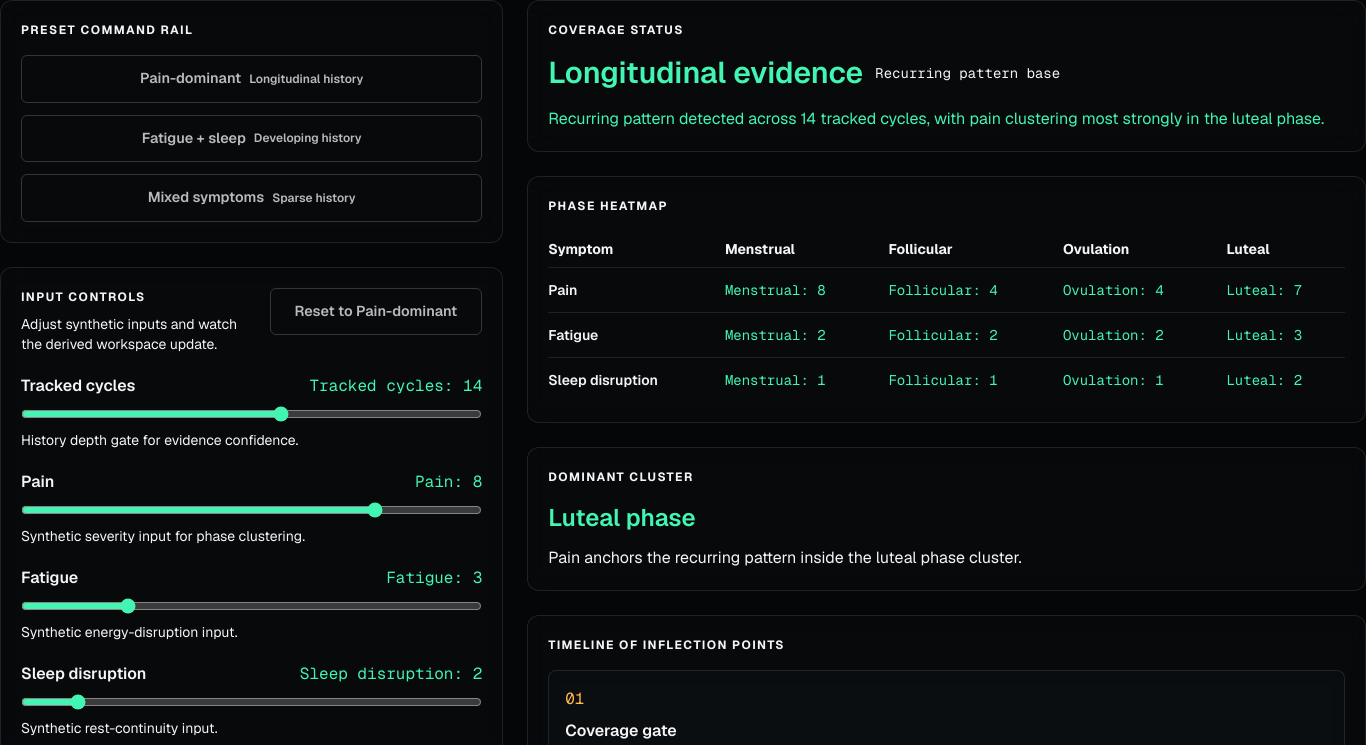
InteractiveFrameworkPreview › unlocks developing insights at six cycles
The width and height of the screenshot is (1366, 745).
Step 1. Click the button "Mixed symptoms Sparse history" → (252, 198), box [21,174,482,222]
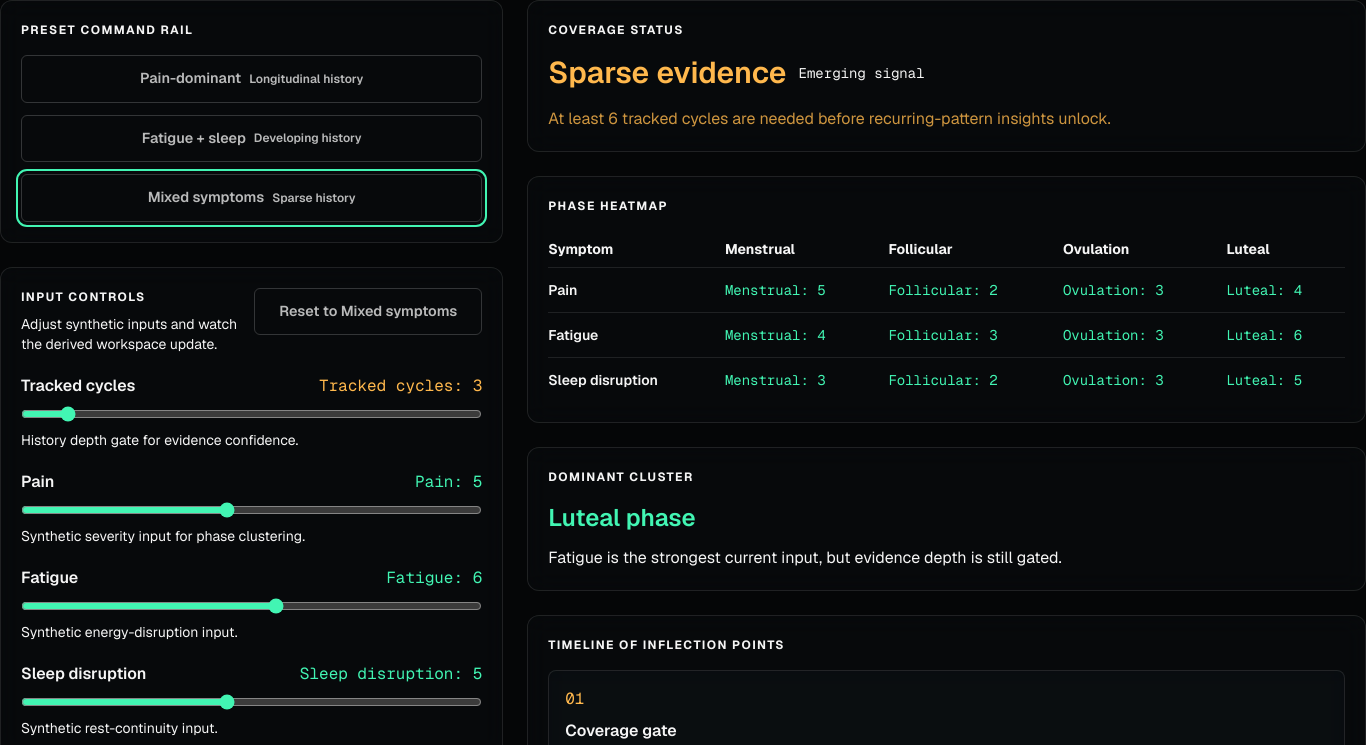
Step 2. Set the slider labelled "Tracked cycles" to "6" → (126, 414), box [21,406,482,422]
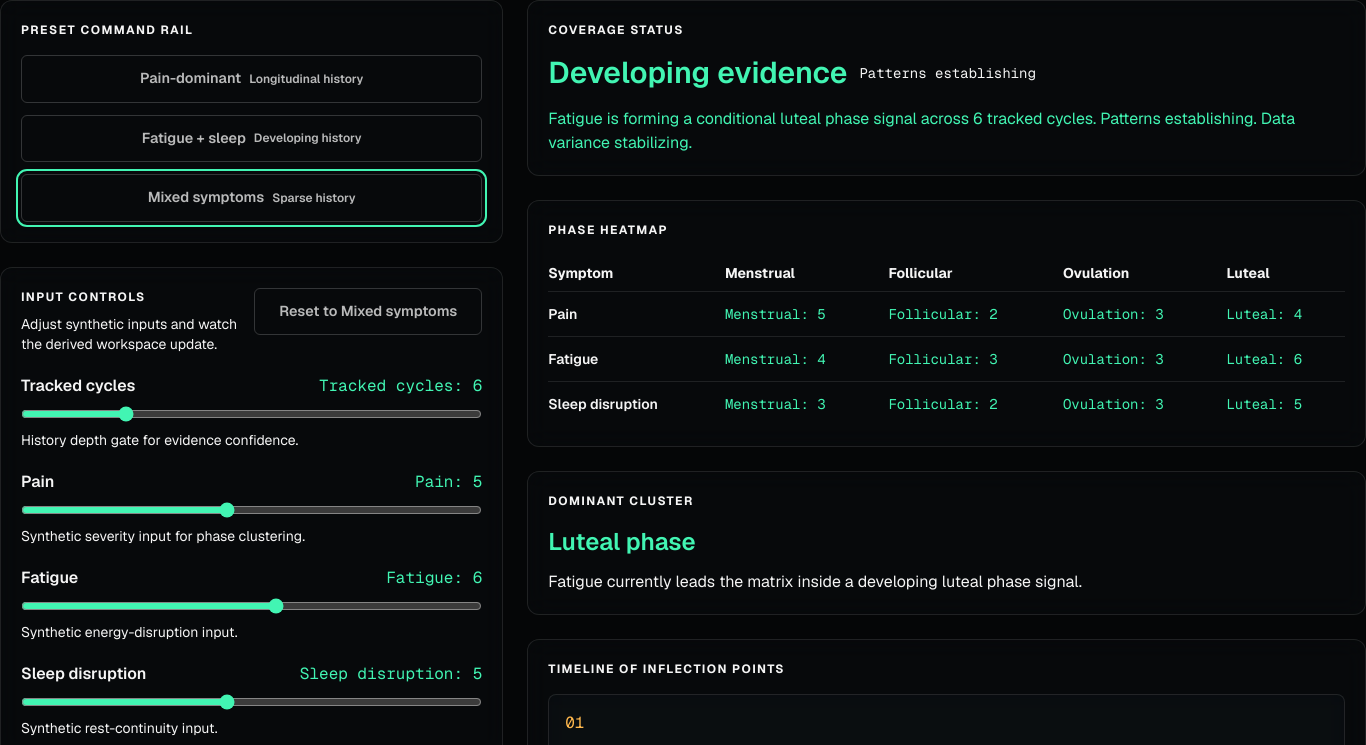
Now the text "Developing evidence" is shown, box [548,55,848,91]
Now the text "At least 6 tracked cycles" is gone
